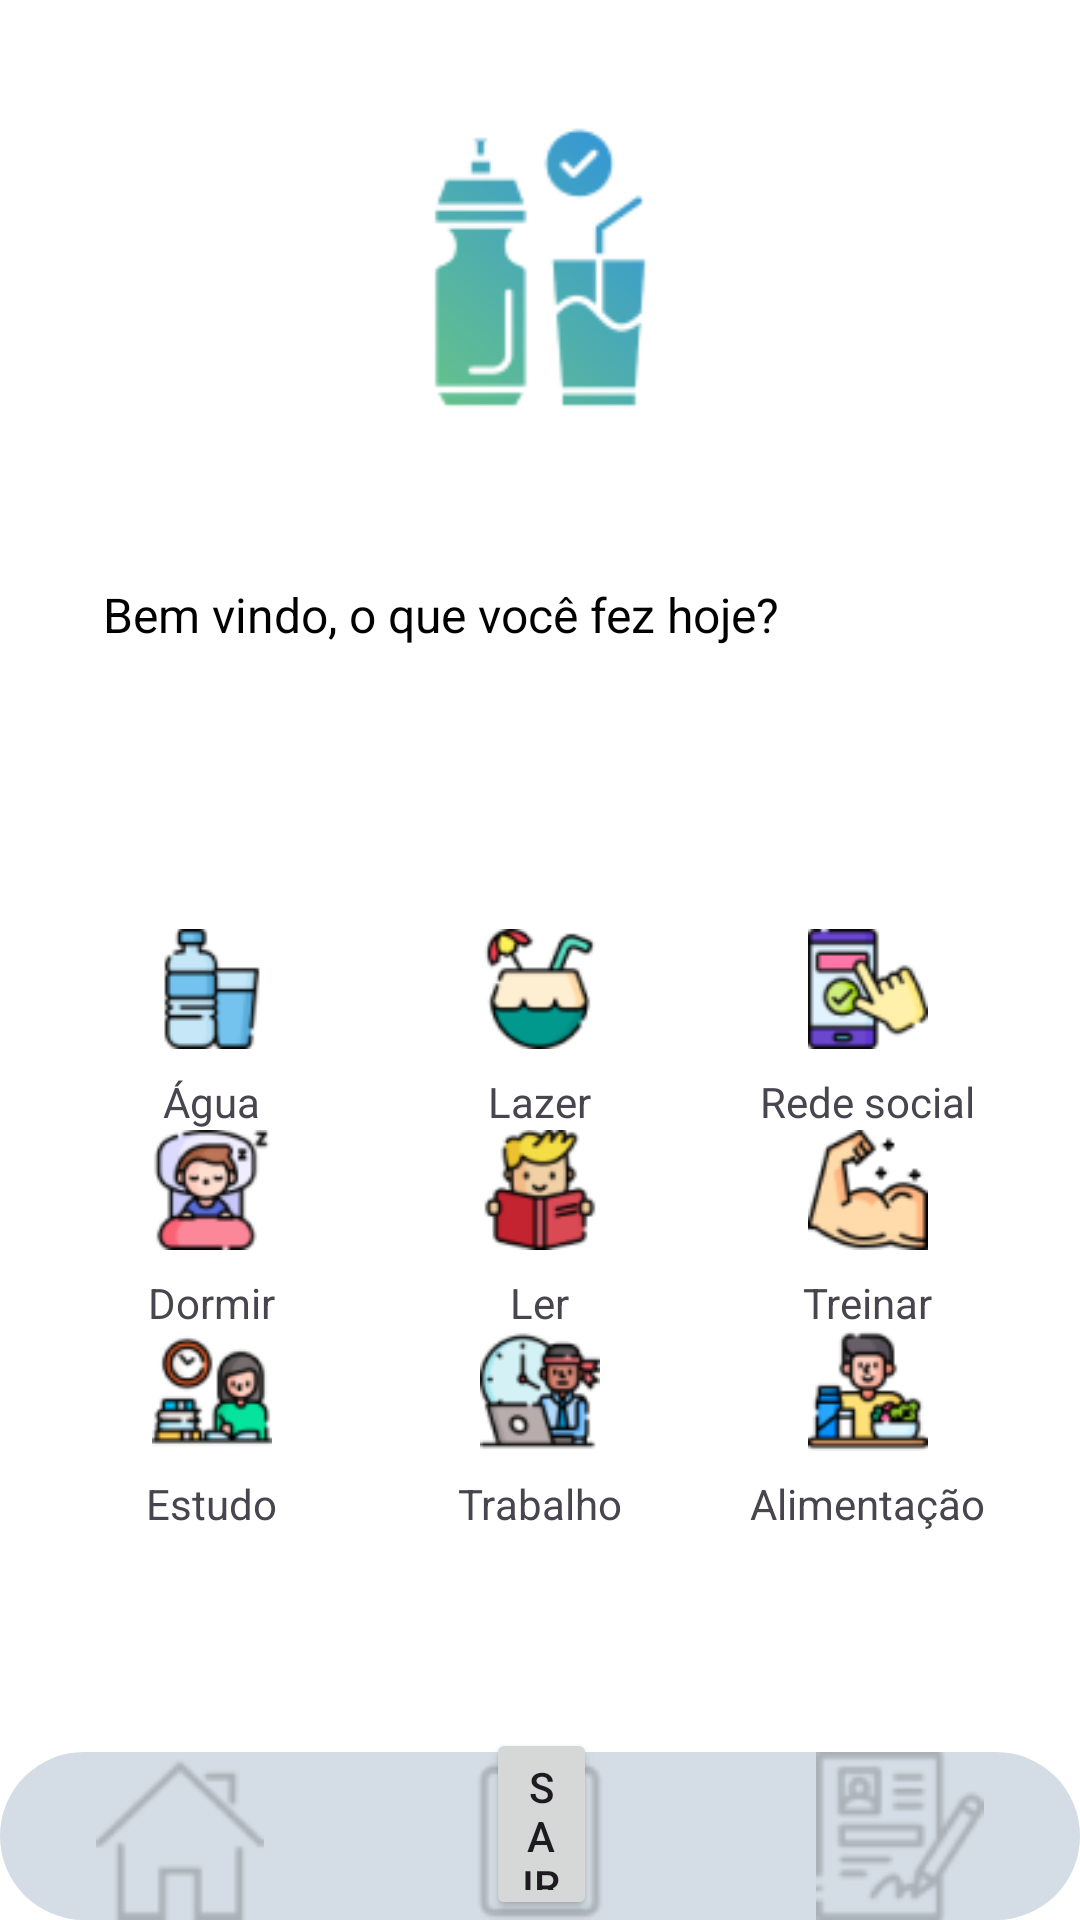

Point at icon controls on the screen. Image size 1080 × 1920, points as [x,y].
coconutdrink: [540,989]
Início: [180,1836]
muscle: [868,1190]
Perfil: [900,1836]
waterconsumption: [540,267]
